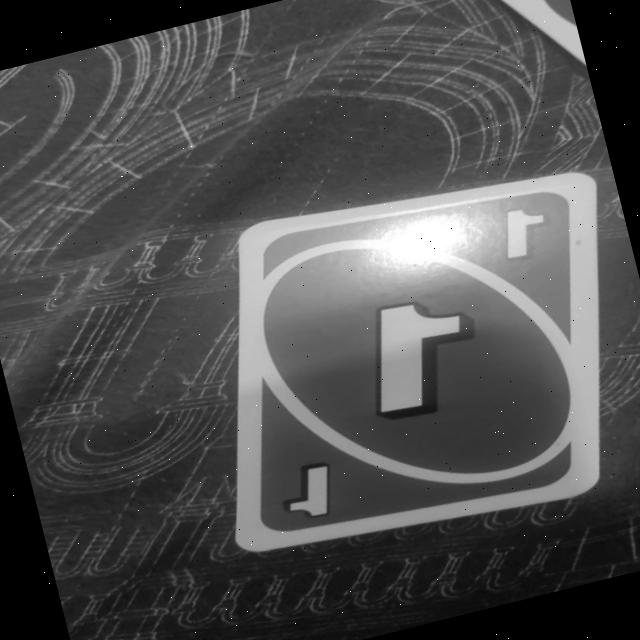card_1: (160, 138, 640, 578)
